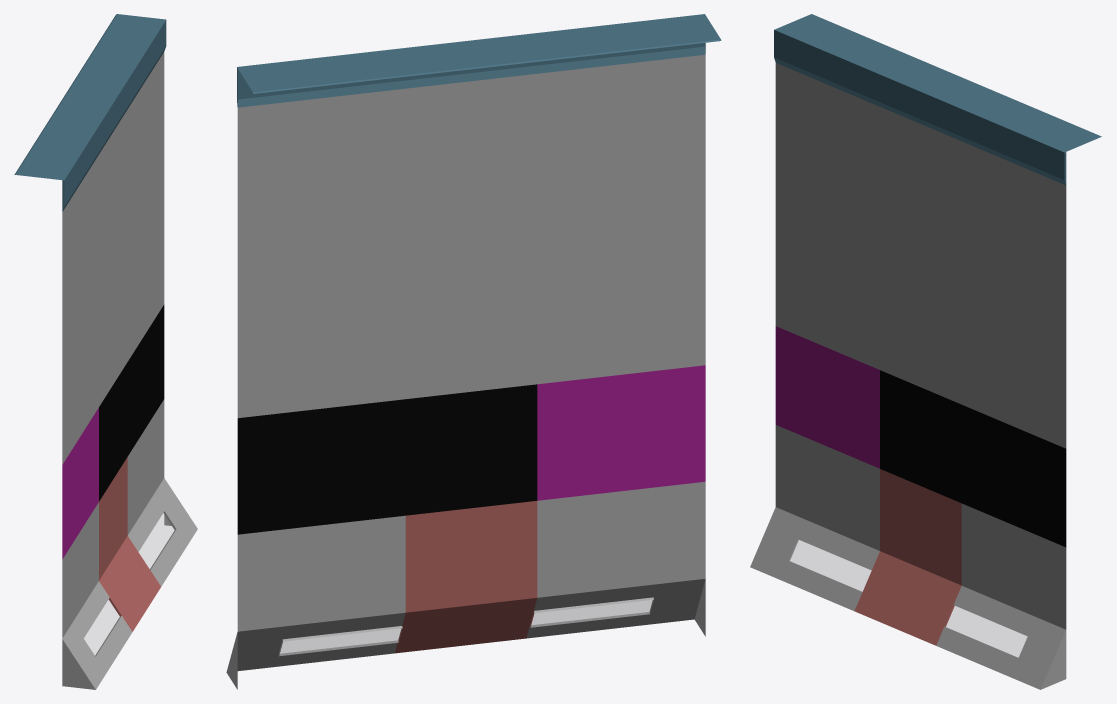
Rendered from SM_WallTile45.fbx.
The picture shows the model from 3 angles, left to right: view 1: azimuth 30°, elevation 25°; view 2: azimuth 150°, elevation 25°; view 3: azimuth 270°, elevation 25°; orthographic projection. The views are drawn at different scales.
Parts seen in each view (by area): view 1: SM_WallTile45; view 2: SM_WallTile45; view 3: SM_WallTile45.
Boxes of the visible parts, box(x1,y1,x2,y2) form: SM_WallTile45: box(14, 14, 197, 689); SM_WallTile45: box(226, 14, 721, 689); SM_WallTile45: box(750, 14, 1101, 689).
Size of what is drawn, in the model's own units: 243 by 401 by 243.
